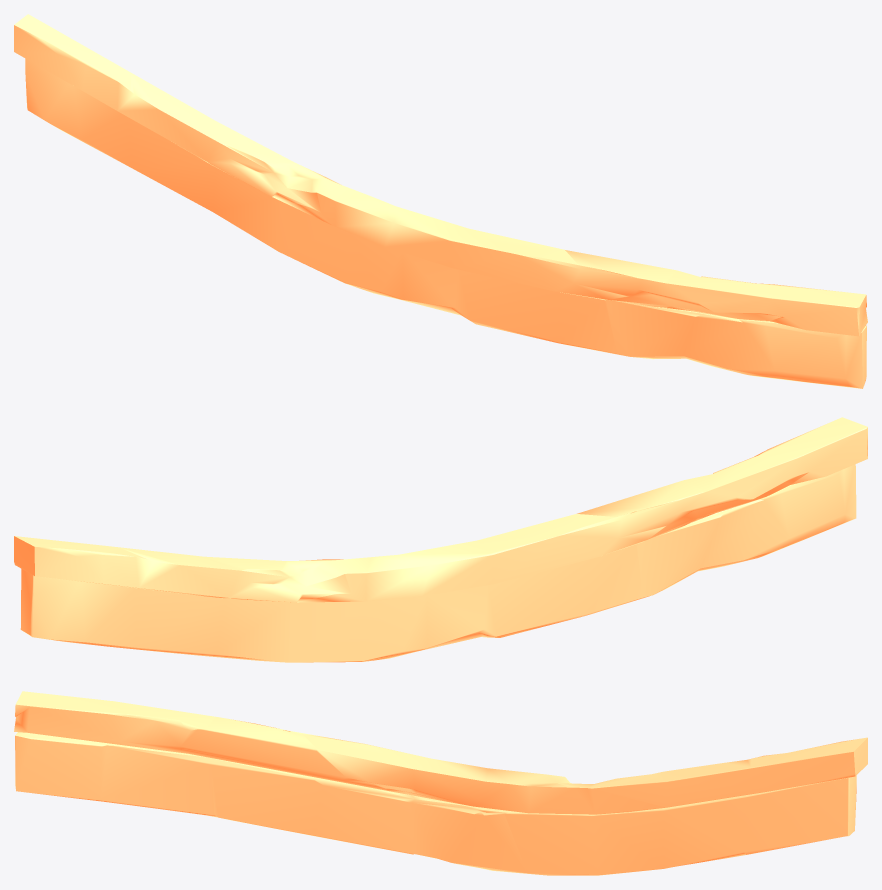
File: SM_Bow03.fbx
3 renders of one model, top to bottom at view 1: azimuth 90°, elevation 25°; view 2: azimuth 150°, elevation 25°; view 3: azimuth 270°, elevation 25°, orthographic. The views are drawn at different scales.
Parts seen in each view (by area): view 1: SM_Bow03_LOD0; view 2: SM_Bow03_LOD0; view 3: SM_Bow03_LOD0.
Boxes of the visible parts, x1,y1,x2,y2 form: SM_Bow03_LOD0: [14, 14, 867, 388]; SM_Bow03_LOD0: [14, 417, 867, 662]; SM_Bow03_LOD0: [14, 691, 867, 875].
Size of the model in its own units: 368 by 749 by 202.
